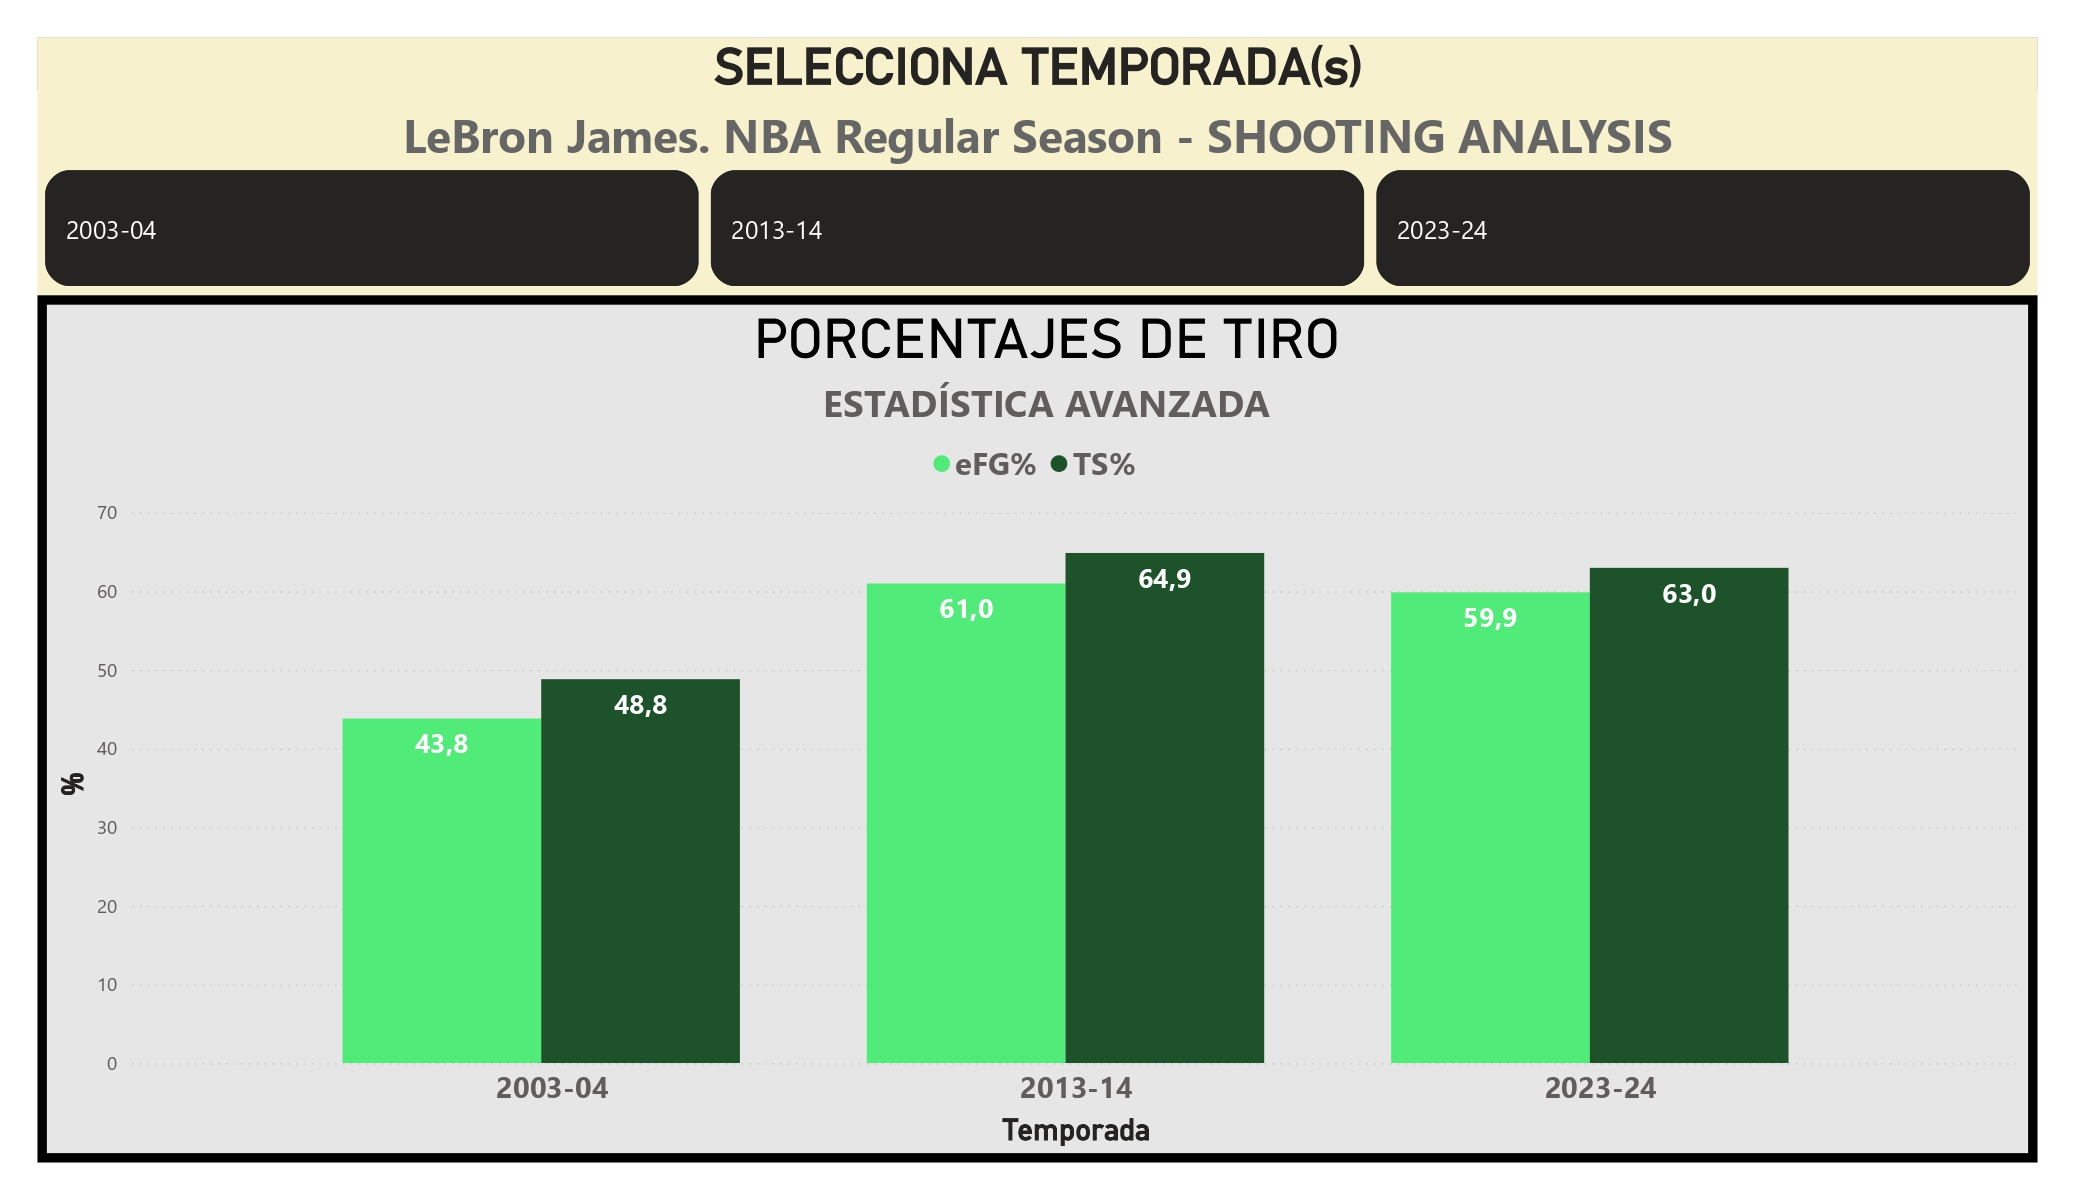

What the dashboard file says about the page in this screenshot:
{"tool":"powerbi","page":{"name":"%_TIRO_Avanzados","canvas":[1280,720],"ordinal":2},"visuals":[{"type":"advancedSlicerVisual","title":"SELECCIONA TEMPORADA(s)","fields":{"Values":["lebron_career_data.SEASON_ID"]},"box":[0,0,1280,165],"z":1000},{"type":"clusteredColumnChart","title":"PORCENTAJES DE TIRO","fields":{"Category":["lebron_career_data.SEASON_ID"],"Y":["lebron_career_data.med_eFG%","lebron_career_data.med_TS%"]},"box":[0,165,1280,555],"z":2000}]}

Visuals, with their boxes on the page's 1280x720 design canvas (x1, y1, x2, y2). These are canvas units, not pixel positions in the 2075x1200 screenshot, which may show the page scaled, cropped or inside an application window:
"SELECCIONA TEMPORADA(s)" advancedSlicerVisual: {"left": 0, "top": 0, "right": 1280, "bottom": 165}
"PORCENTAJES DE TIRO" clusteredColumnChart: {"left": 0, "top": 165, "right": 1280, "bottom": 720}
